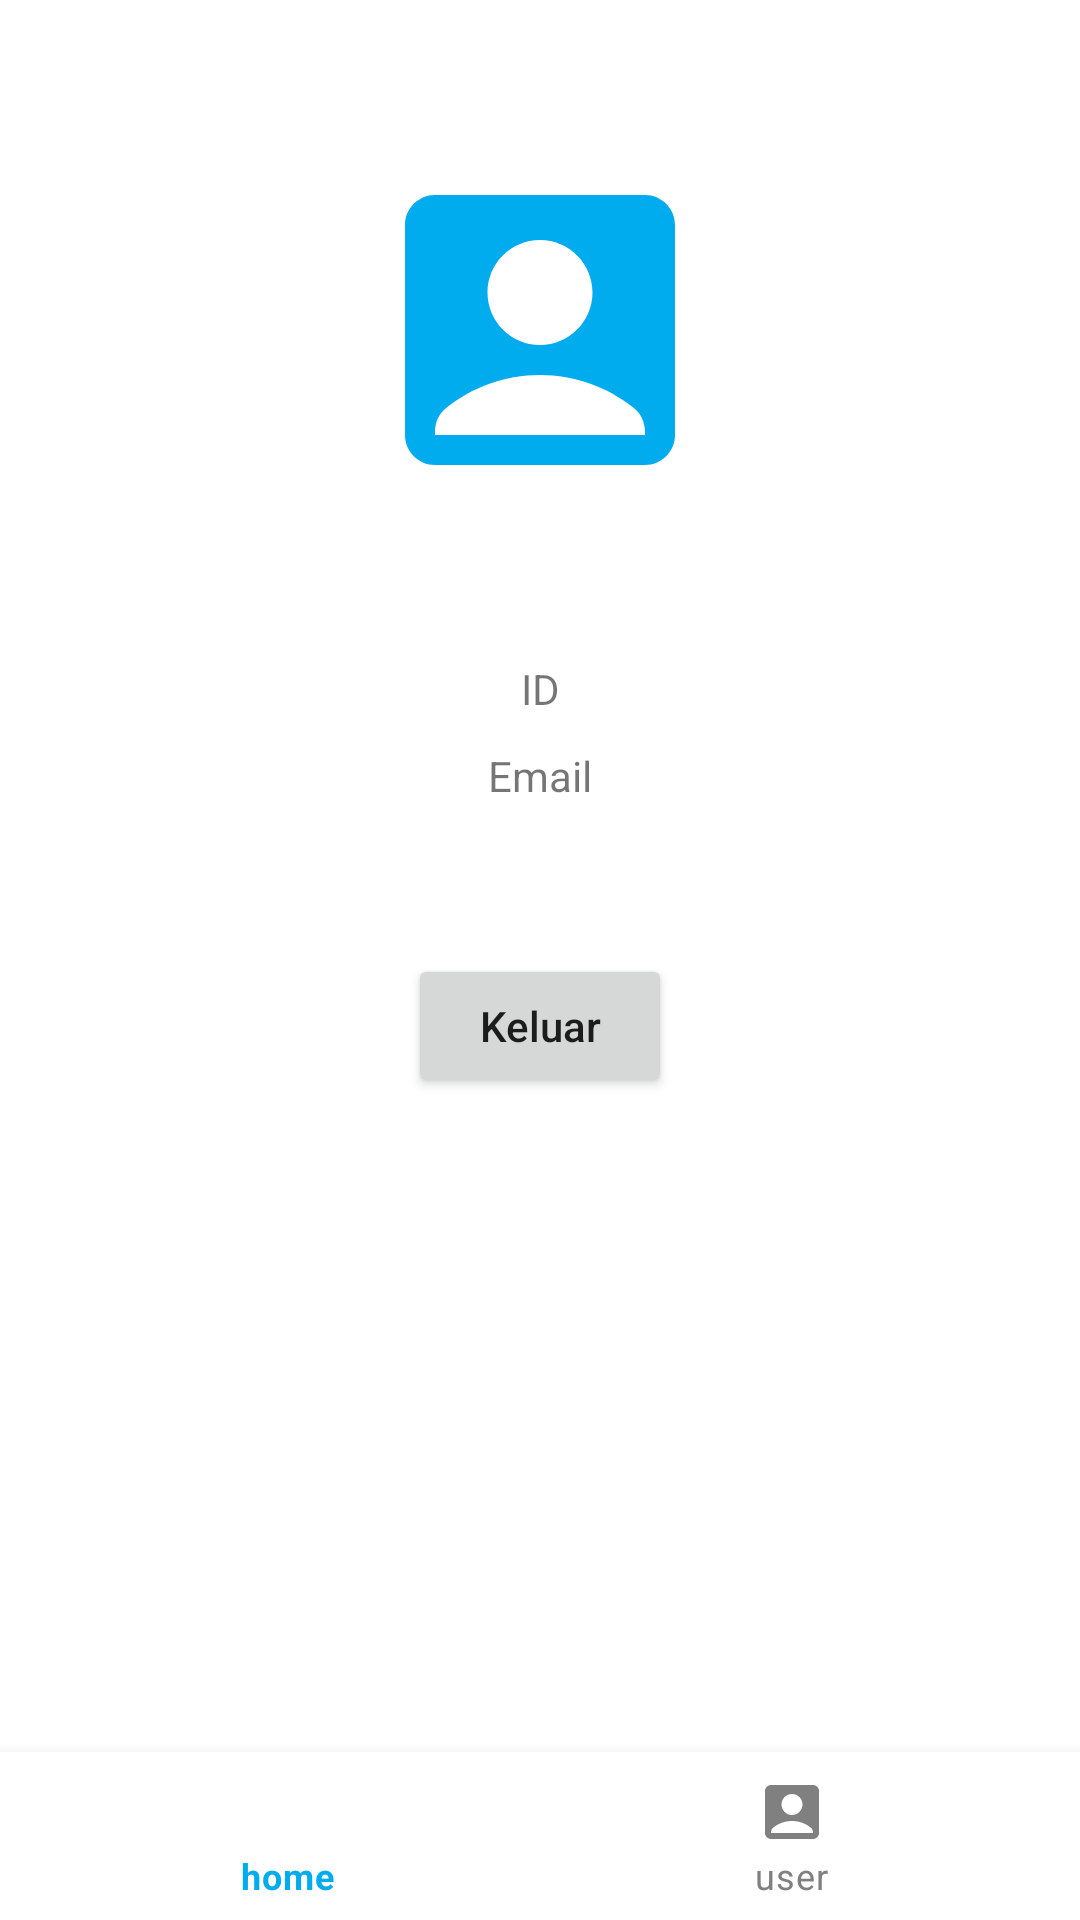

Locate icon controls on the screen. Image size 1080 x 1920, boxes as box=[x1, y1, x2, y2].
account: box=[405, 195, 675, 465]
